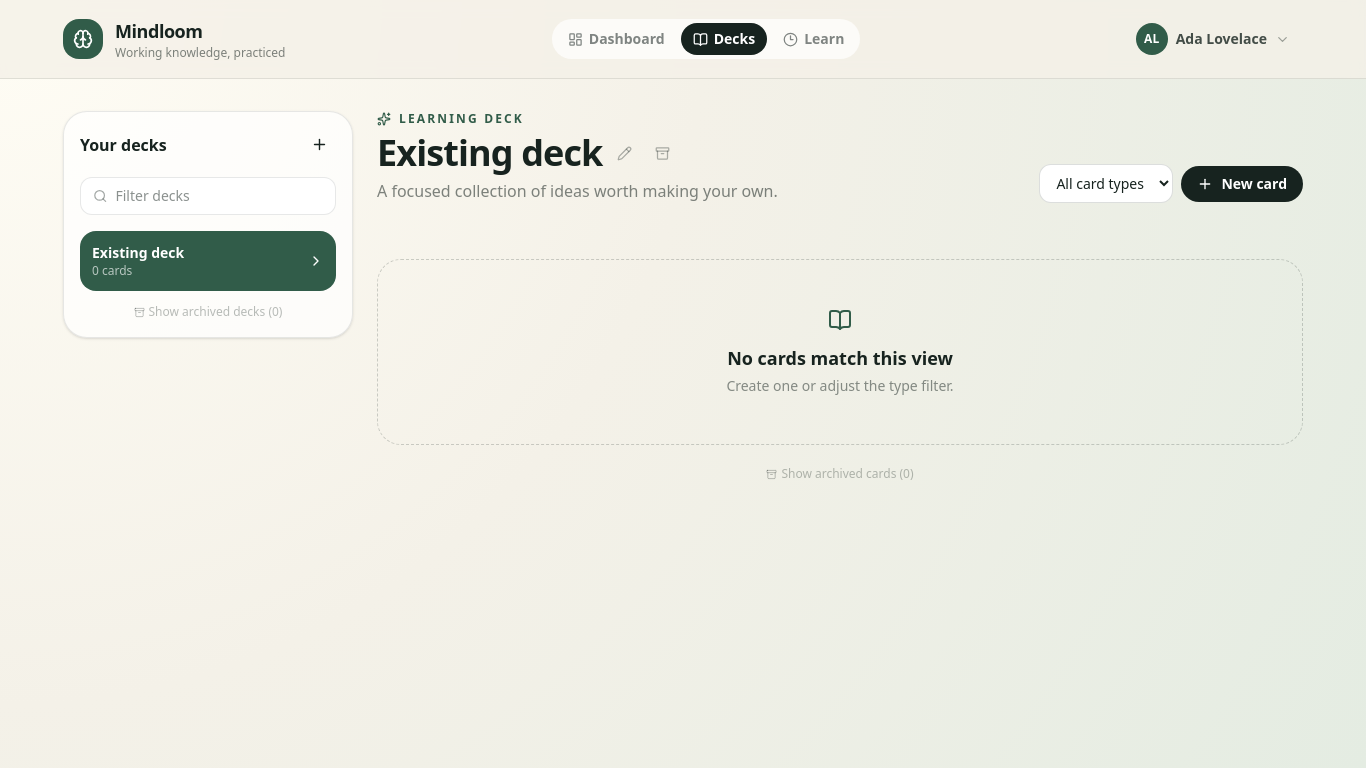
it: selects a newly created deck
Expected: the heading "Existing deck" is shown, left=377, top=135, right=602, bottom=171
Click the button named "Create deck" at (320, 144), box left=303, top=128, right=336, bottom=161
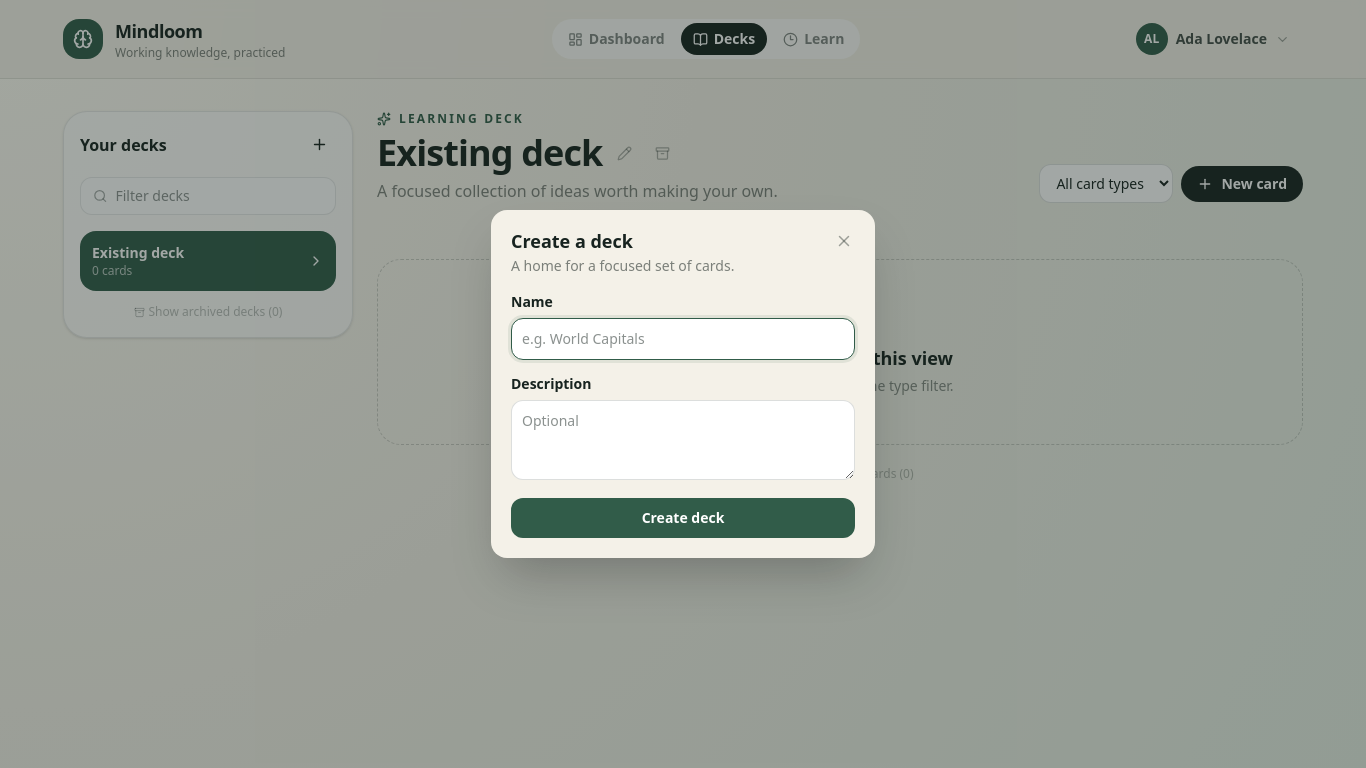
Type "New deck" into the field labelled "Name" at (683, 339), box left=511, top=318, right=855, bottom=360
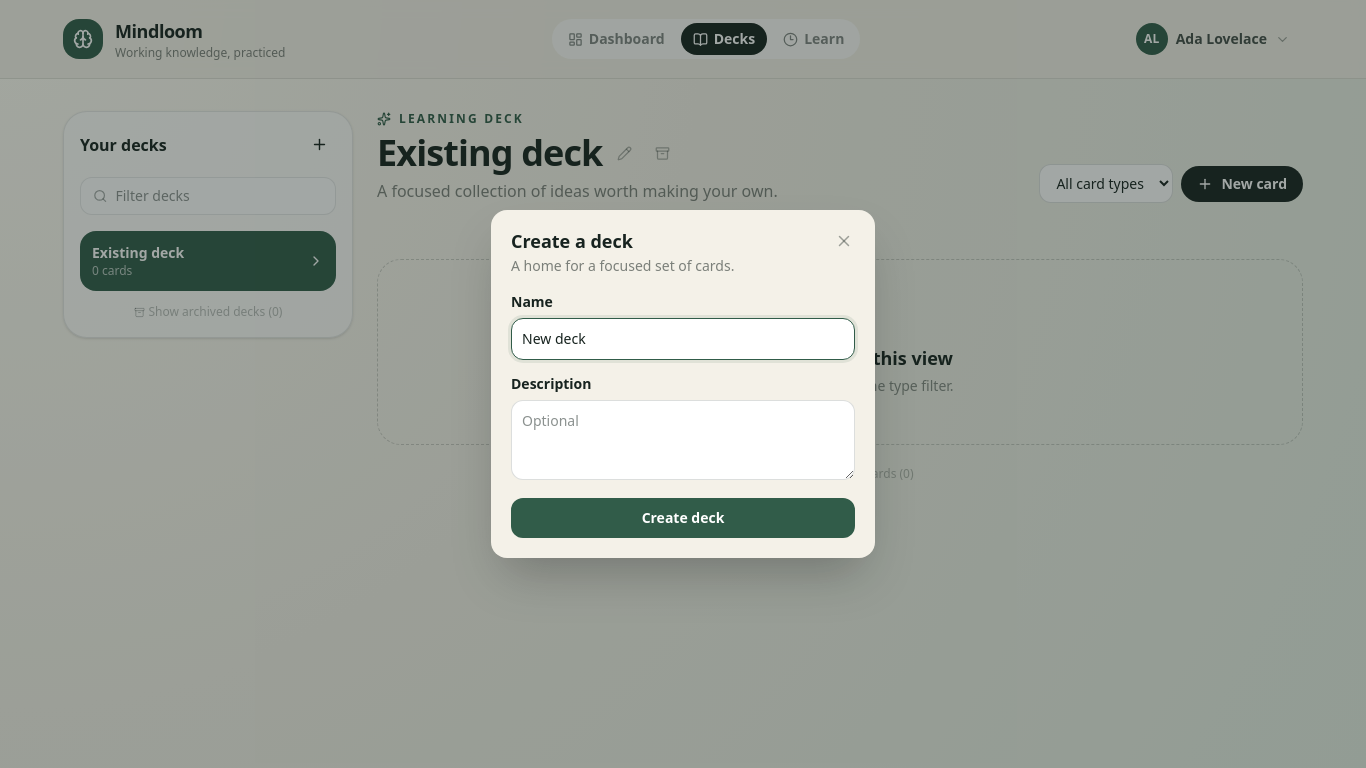
Click the button "Create deck" at (683, 518), box left=511, top=498, right=855, bottom=538
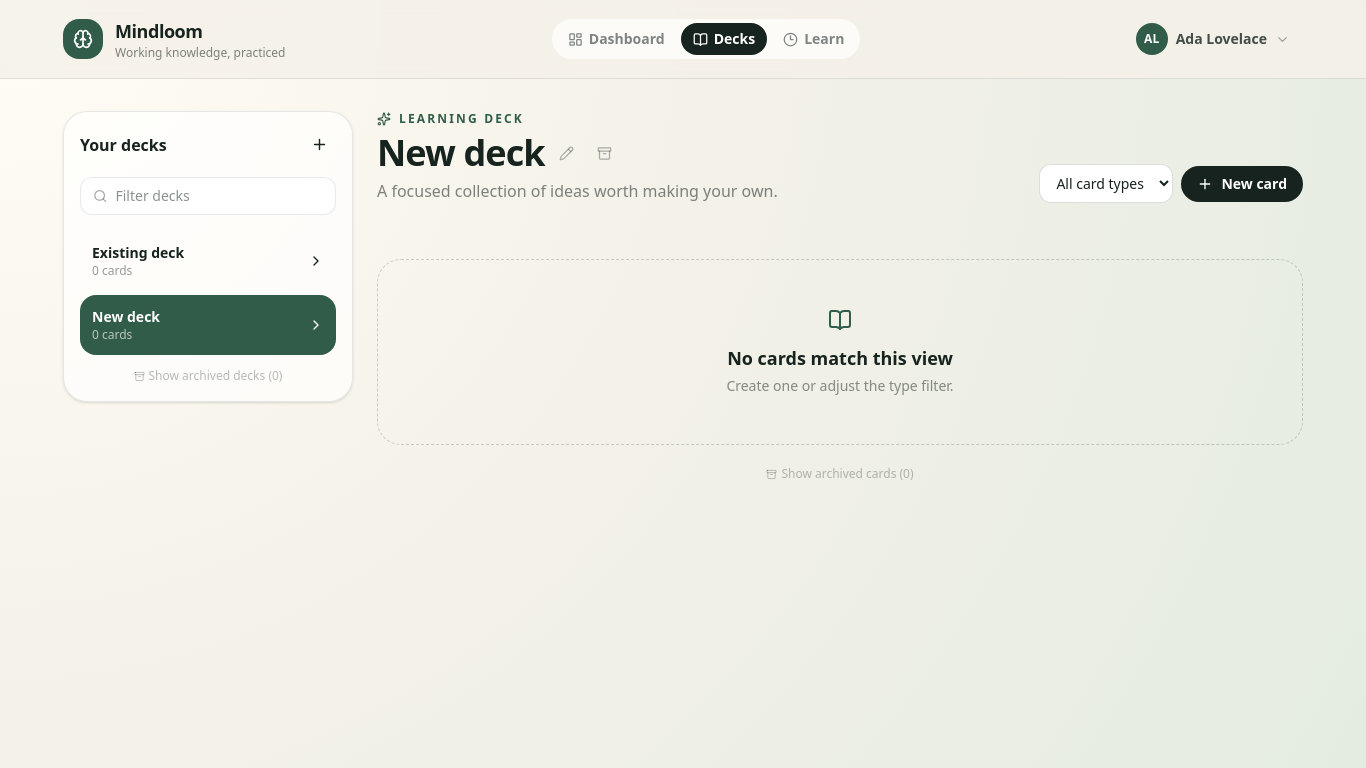
Expected: the heading "New deck" is shown, left=377, top=135, right=545, bottom=171
